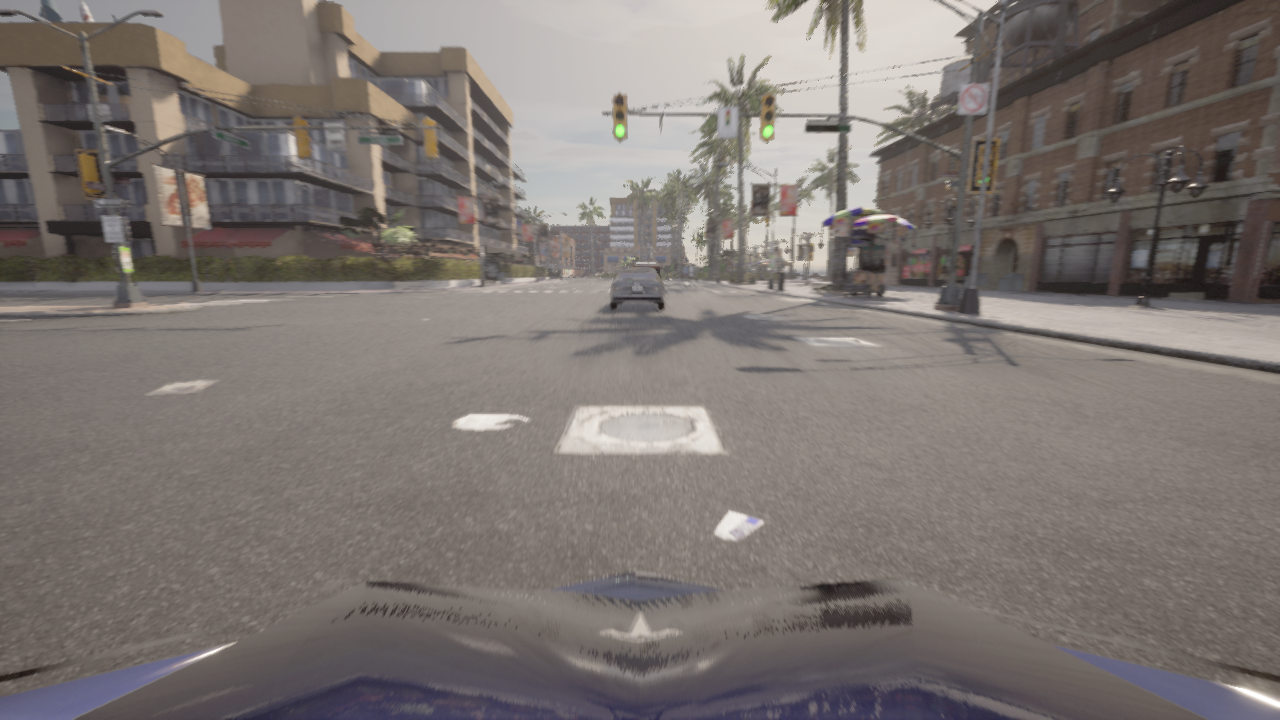cyclist: (0, 569, 1279, 719), (611, 268, 664, 309), (633, 261, 659, 276), (761, 276, 763, 279), (731, 277, 733, 278)
